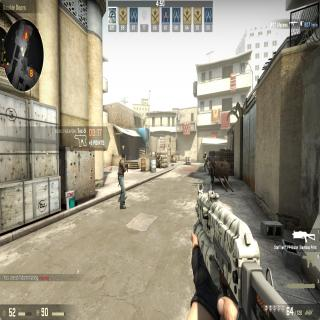CT-Body: (203, 152, 210, 172), (158, 154, 162, 169)
CT-Head: (204, 152, 207, 156), (158, 154, 160, 158)
T-Body: (118, 153, 128, 210)
T-Head: (121, 152, 126, 161)
